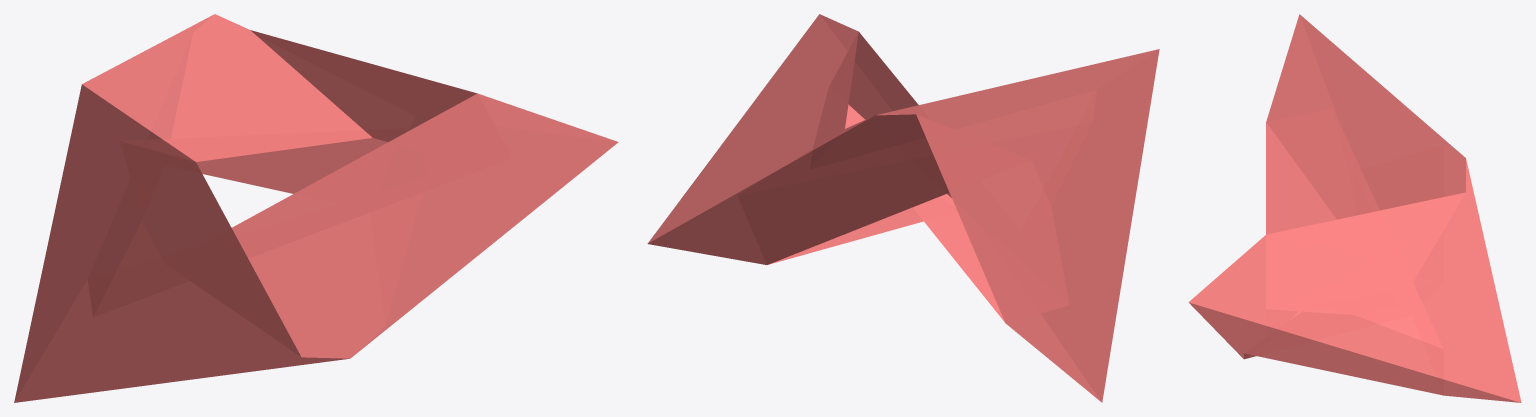
The model's file is CairoTiling_D.obj.
3 views of the same model, side by side, from view 1: azimuth 30°, elevation 25°; view 2: azimuth 150°, elevation 25°; view 3: azimuth 270°, elevation 25° (orthographic). The views are drawn at different scales.
Bounding box in the file's own units: 40 × 30 × 30.
